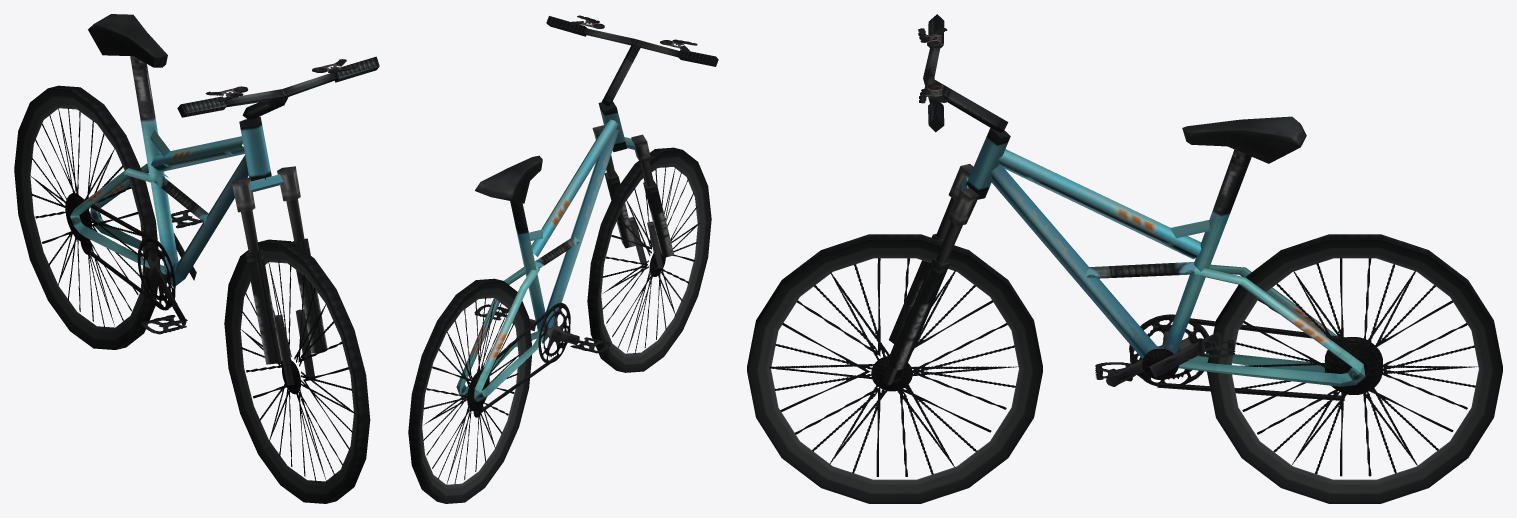
The model's file is bike.gltf.
3 views of the same model, side by side, from view 1: azimuth 30°, elevation 25°; view 2: azimuth 150°, elevation 25°; view 3: azimuth 270°, elevation 25° (orthographic). The views are drawn at different scales.
Parts seen in each view (by area): view 1: Lo-Body_01; view 2: Lo-Body_01; view 3: Lo-Body_01.
Part boxes in pixels (x1,y1,x2,y2): Lo-Body_01: (14,14,379,503); Lo-Body_01: (408,15,718,503); Lo-Body_01: (747,14,1502,503).
Bounding box in the file's own units: 0.663 × 1.29 × 2.02.
Materials: 1 (1 with a texture image).
